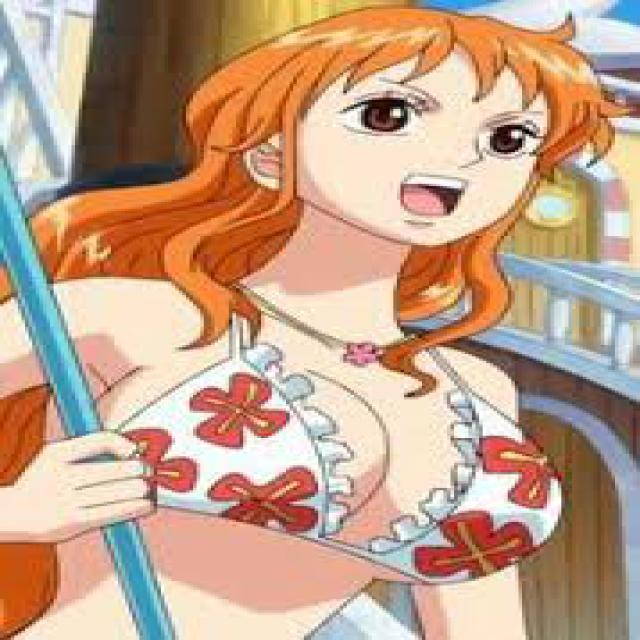Nami: (0, 7, 633, 640)
